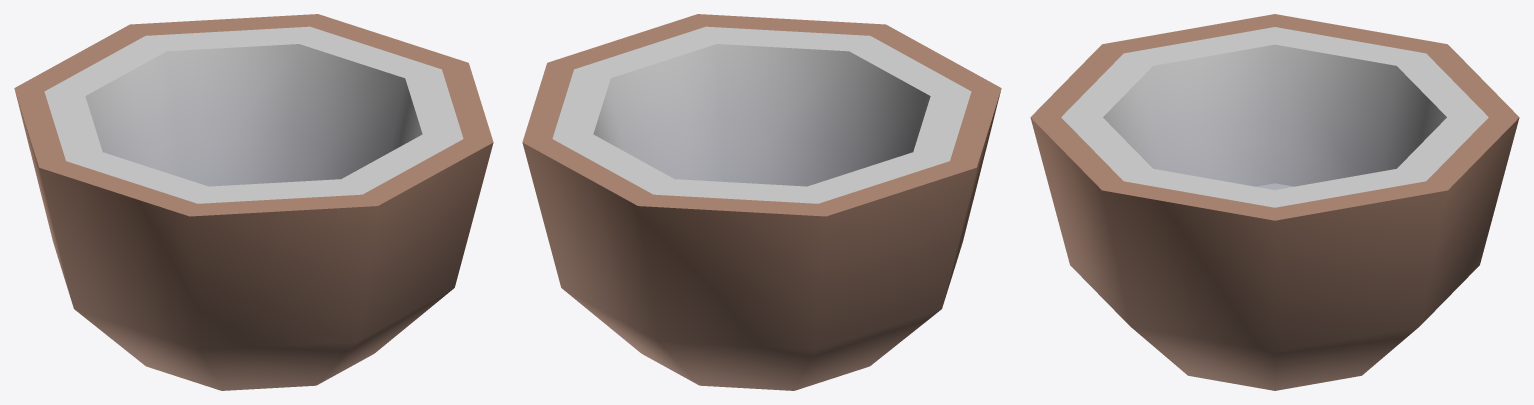
The model's file is coconut-half.glb.
3 renders of one model, left to right at view 1: azimuth 30°, elevation 25°; view 2: azimuth 150°, elevation 25°; view 3: azimuth 270°, elevation 25°, orthographic.
Visible parts, largest first — view 1: coconut-half; view 2: coconut-half; view 3: coconut-half.
Part boxes in pixels (x1,y1,x2,y2): coconut-half: (14, 14, 493, 390); coconut-half: (522, 14, 1001, 390); coconut-half: (1030, 14, 1519, 390).
Size of the model in its own units: 0.2484 by 0.1242 by 0.2484.
